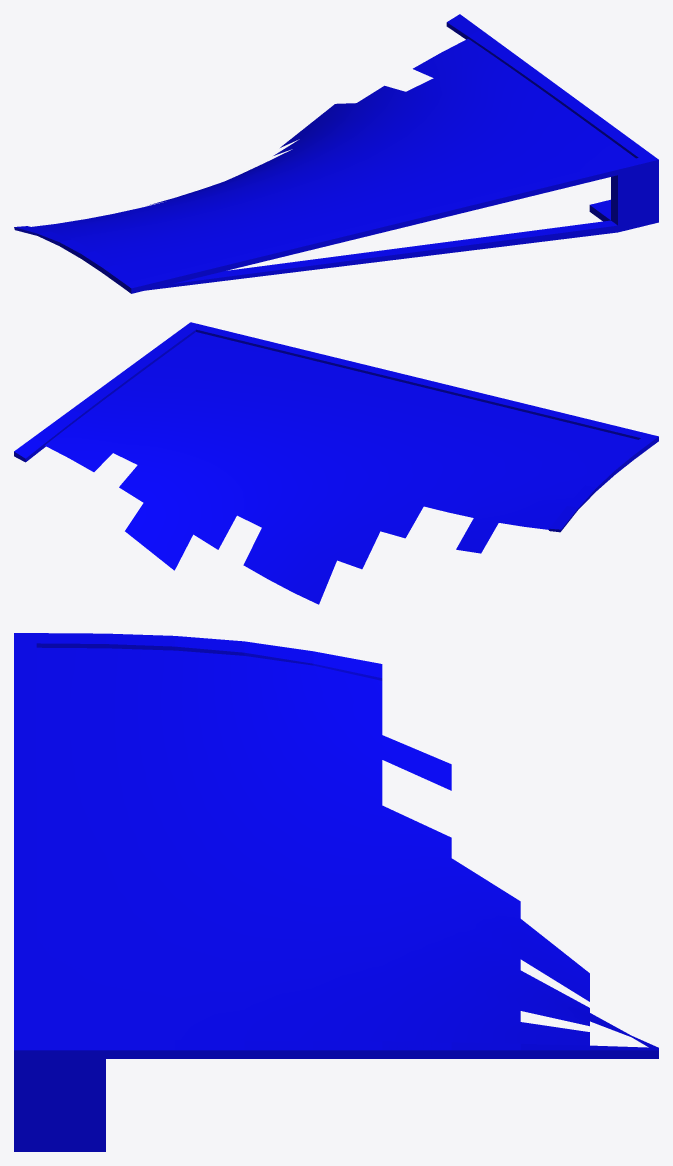
Rendered from sub_BrokenWireNettingStoolDown1.fbx.
3 renders of one model, top to bottom at view 1: azimuth 30°, elevation 25°; view 2: azimuth 150°, elevation 25°; view 3: azimuth 270°, elevation 25°, orthographic. The views are drawn at different scales.
Parts seen in each view (by area): view 1: sub_BrokenWireNettingStoolDown1; view 2: sub_BrokenWireNettingStoolDown1; view 3: sub_BrokenWireNettingStoolDown1.
Part boxes in pixels (bbox=[...]): sub_BrokenWireNettingStoolDown1: bbox=[14, 14, 658, 293]; sub_BrokenWireNettingStoolDown1: bbox=[14, 322, 658, 604]; sub_BrokenWireNettingStoolDown1: bbox=[14, 633, 658, 1151].
Bounding box in the file's own units: 6.33 × 1.25 × 4.1.
